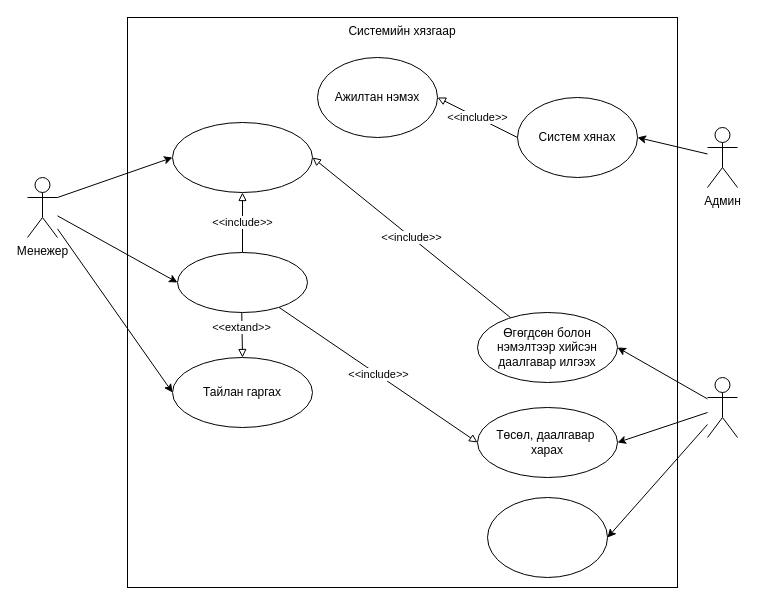
The diagram is 764 pixels wide and 605 high, and some of its shapes have lost their labels. The centre of each missing label's shape, as x and y in pixels:
Ажилтан: [722,407]
Төсөл, даалгавар үүсгэх: [242,282]
Үнэлгээ болон санал өгөх: [242,157]
Өөрийн явцыг хянах: [547,537]
